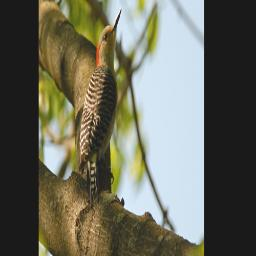Woodpecker: (79, 9, 122, 208)
